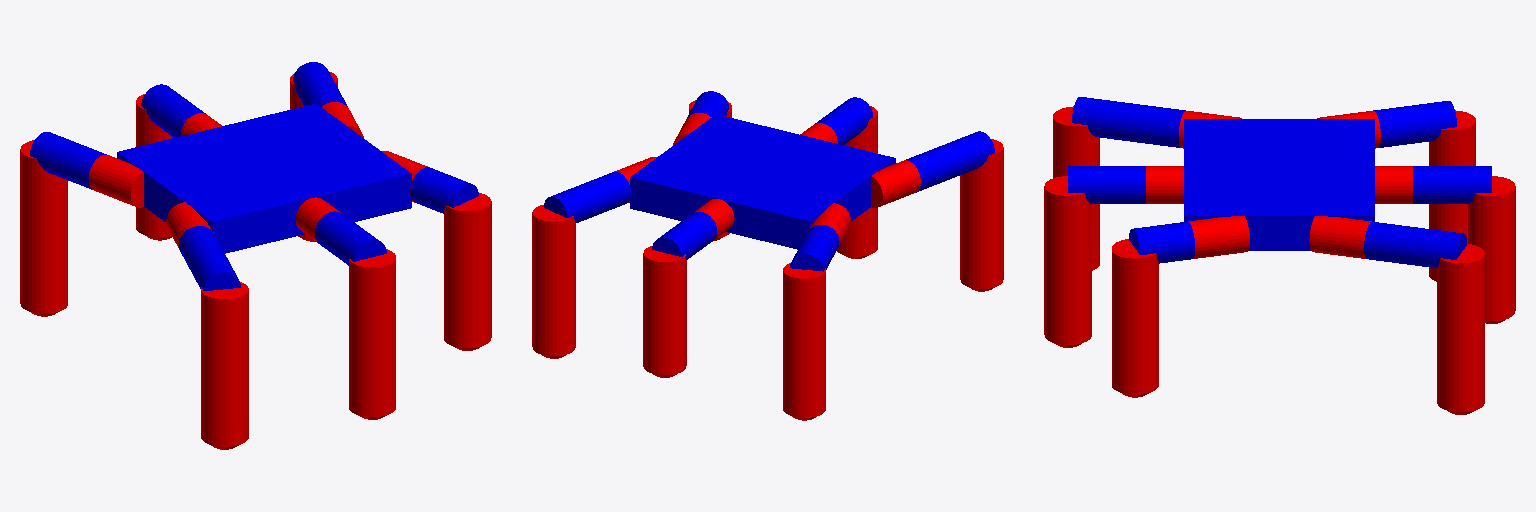
--- What the picture shows (computed from the rendered views, not written in the file) ---
The picture shows the robot from 3 angles, left to right: view 1: azimuth 30°, elevation 25°; view 2: azimuth 150°, elevation 25°; view 3: azimuth 270°, elevation 25°; orthographic projection.
Model pexod with 19 links and 18 joints (18 revolute), rooted at base_link, posed all joints at 0.
Visible links, largest first — view 1: base_link, leg_5_3, leg_4_3, leg_0_3, leg_3_3, leg_5_2, leg_0_2, leg_4_2, leg_0_1, leg_3_2, leg_1_2, leg_1_3 (+5 smaller); view 2: base_link, leg_0_3, leg_2_3, leg_5_3, leg_1_3, leg_5_2, leg_2_2, leg_4_3, leg_1_2, leg_5_1, leg_0_2, leg_4_2 (+3 smaller); view 3: base_link, leg_2_3, leg_4_3, leg_3_3, leg_1_3, leg_5_2, leg_2_2, leg_0_3, leg_5_3, leg_1_2, leg_4_2, leg_0_2 (+5 smaller).
Boxes of the visible links, left/top/right/bottom form: base_link: left=117, top=104, right=411, bottom=253; leg_5_3: left=201, top=282, right=248, bottom=449; leg_4_3: left=349, top=249, right=395, bottom=419; leg_0_3: left=20, top=140, right=67, bottom=316; leg_3_3: left=444, top=193, right=491, bottom=350; leg_5_2: left=179, top=226, right=240, bottom=290; leg_0_2: left=30, top=132, right=106, bottom=189; leg_4_2: left=315, top=211, right=386, bottom=265; leg_0_1: left=89, top=155, right=143, bottom=207; leg_3_2: left=410, top=167, right=478, bottom=213; leg_1_2: left=141, top=84, right=205, bottom=137; leg_1_3: left=136, top=94, right=173, bottom=240; base_link: left=630, top=114, right=895, bottom=249; leg_0_3: left=783, top=263, right=825, bottom=420; leg_2_3: left=532, top=205, right=575, bottom=358; leg_5_3: left=960, top=139, right=1003, bottom=291; leg_1_3: left=643, top=246, right=686, bottom=377; leg_5_2: left=906, top=131, right=994, bottom=192; leg_2_2: left=544, top=172, right=630, bottom=222; leg_4_3: left=837, top=106, right=877, bottom=258; leg_1_2: left=652, top=211, right=716, bottom=259; leg_5_1: left=871, top=160, right=920, bottom=207; leg_0_2: left=790, top=225, right=839, bottom=271; leg_4_2: left=815, top=97, right=872, bottom=144; base_link: left=1184, top=119, right=1374, bottom=250; leg_2_3: left=1437, top=244, right=1484, bottom=414; leg_4_3: left=1044, top=176, right=1091, bottom=347; leg_3_3: left=1112, top=239, right=1158, bottom=397; leg_1_3: left=1468, top=176, right=1515, bottom=323; leg_5_2: left=1072, top=97, right=1185, bottom=147; leg_2_2: left=1364, top=222, right=1466, bottom=267; leg_0_3: left=1429, top=110, right=1475, bottom=281; leg_5_3: left=1053, top=106, right=1099, bottom=270; leg_1_2: left=1413, top=166, right=1491, bottom=203; leg_4_2: left=1068, top=166, right=1145, bottom=203; leg_0_2: left=1373, top=101, right=1456, bottom=147.
Bounding box of the posed robot: 0.3897 × 0.494 × 0.2105 m (x, y, z).
Geometry: primitives only (box / cylinder / sphere), no mesh files.

URDF robot description (pexod):
<?xml version="1.0" ?>
<!-- =================================================================================== -->
<!-- |    This document was autogenerated by xacro from pexod.xacro                    | -->
<!-- |    EDITING THIS FILE BY HAND IS NOT RECOMMENDED                                 | -->
<!-- =================================================================================== -->
<robot name="pexod" xmlns:xacro="http://www.ros.org/wiki/xacro">
  <!-- <xacro:include filename="$(find pexod_description)/urdf/pexod_control.xacro" /> -->
  <!-- MATERIALS -->
  <material name="Blue">
    <color rgba="0 0 1 1"/>
  </material>
  <material name="Red">
    <color rgba="1 0 0 1"/>
  </material>
  <material name="Green">
    <color rgba="0 1 0 1"/>
  </material>
  <material name="Yellow">
    <color rgba="1 1 0 1"/>
  </material>
  <material name="LightGrey">
    <color rgba="0.6 0.6 0.6 1.0"/>
  </material>
  <!-- END OF MATERIALS -->
  <!-- XACRO MACROS FOR VISUALS AND COLLISIONS -->
  <!-- END OF XACRO MACROS -->
  <!-- TORSO -->
  <link name="base_link">
    <visual>
      <origin rpy="0 0 0" xyz="0 0 0"/>
      <geometry>
        <box size="0.24 0.2 0.04"/>
      </geometry>
      <material name="Blue"/>
    </visual>
    <collision>
      <origin rpy="0 0 0" xyz="0 0 0"/>
      <geometry>
        <box size="0.24 0.2 0.04"/>
      </geometry>
    </collision>
    <inertial>
      <!-- CENTER OF MASS -->
      <origin rpy="0 0 0" xyz="0 0 0"/>
      <mass value="1.031"/>
      <!-- box inertia: 1/12*m(y^2+z^2), ... -->
      <inertia ixx="0.00357413333333" ixy="0" ixz="0" iyy="0.00508626666667" iyz="0" izz="0.00838546666667"/>
    </inertial>
  </link>
  <!-- XACRO MACRO FOR LEGS LINKS/JOINTS -->
  <!-- END OF LEG LINKS/JOINTS -->
  <joint name="body_leg_2" type="revolute">
    <parent link="base_link"/>
    <child link="leg_2_1"/>
    <limit effort="30.0" lower="-1.57079632679" upper="1.57079632679" velocity="7.0"/>
    <origin rpy="0 0 -0.3" xyz="0.11 0.04 0"/>
    <!-- <xacro:if value="${index == 5 or index == 4 or index == 3}">
                <axis xyz="0 0 1"/>
            </xacro:if>
            <xacro:if value="${index == 2 or index == 1 or index == 0}"> -->
    <axis xyz="0 0 1"/>
    <!-- </xacro:if> -->
    <dynamics damping="0.0"/>
  </joint>
  <link name="leg_2_1">
    <visual>
      <origin rpy="1.57079632679 0 0" xyz="0.01 0.03 0"/>
      <geometry>
        <cylinder length="0.06" radius="0.02"/>
      </geometry>
      <material name="Red"/>
    </visual>
    <collision>
      <origin rpy="1.57079632679 0 0" xyz="0.01 0.03 0"/>
      <geometry>
        <box size="0.02 0.02 0.06"/>
      </geometry>
    </collision>
    <inertial>
      <!-- CENTER OF MASS -->
      <origin rpy="1.57079632679 0 0" xyz="0.01 0.03 0"/>
      <mass value="0.02"/>
      <!-- box inertia: 1/12*m(y^2+z^2), ... -->
      <inertia ixx="6.66666666667e-06" ixy="0" ixz="0" iyy="6.66666666667e-06" iyz="0" izz="1.33333333333e-06"/>
    </inertial>
  </link>
  <joint name="leg_2_1_2" type="revolute">
    <parent link="leg_2_1"/>
    <child link="leg_2_2"/>
    <limit effort="30.0" lower="-0.78539816339" upper="0.78539816339" velocity="7.0"/>
    <origin rpy="0 0 0" xyz="0 0.06 0"/>
    <axis xyz="1 0 0"/>
    <dynamics damping="0.0"/>
  </joint>
  <link name="leg_2_2">
    <visual>
      <origin rpy="1.57079632679 0 0" xyz="0.01 0.0504983761665 0"/>
      <geometry>
        <cylinder length="0.100996752333" radius="0.02"/>
      </geometry>
      <material name="Blue"/>
    </visual>
    <collision>
      <origin rpy="1.57079632679 0 0" xyz="0.01 0.0504983761665 0"/>
      <geometry>
        <box size="0.02 0.02 0.100996752333"/>
      </geometry>
    </collision>
    <inertial>
      <!-- CENTER OF MASS -->
      <origin rpy="1.57079632679 0 0" xyz="0.01 0.0504983761665 0"/>
      <mass value="0.184"/>
      <!-- box inertia: 1/12*m(y^2+z^2), ... -->
      <inertia ixx="0.000162538607721" ixy="0" ixz="0" iyy="0.000162538607721" iyz="0" izz="1.22666666667e-05"/>
    </inertial>
  </link>
  <joint name="leg_2_2_3" type="revolute">
    <parent link="leg_2_2"/>
    <child link="leg_2_3"/>
    <limit effort="30.0" lower="-0.78539816339" upper="0.78539816339" velocity="7.0"/>
    <origin rpy="-1.57079632679 0 0" xyz="0 0.100996752333 0"/>
    <axis xyz="-1 0 0"/>
    <dynamics damping="0.0"/>
  </joint>
  <link name="leg_2_3">
    <visual>
      <origin rpy="1.57079632679 0 0" xyz="0.0125 0.0862149465005 0"/>
      <geometry>
        <cylinder length="0.172429893001" radius="0.025"/>
      </geometry>
      <material name="Red"/>
    </visual>
    <visual>
      <origin rpy="1.57079632679 0 0" xyz="0.0125 0.159929893001 0"/>
      <geometry>
        <sphere radius="0.025"/>
      </geometry>
      <material name="Red"/>
    </visual>
    <collision>
      <origin rpy="1.57079632679 0 0" xyz="0.0125 0.0862149465005 0"/>
      <geometry>
        <box size="0.025 0.025 0.172429893001"/>
      </geometry>
    </collision>
    <collision>
      <origin rpy="1.57079632679 0 0" xyz="0.0125 0.159929893001 0"/>
      <geometry>
        <sphere radius="0.025"/>
      </geometry>
      <material name="Red"/>
    </collision>
    <inertial>
      <!-- CENTER OF MASS -->
      <origin rpy="1.57079632679 0 0" xyz="0.0125 0.0862149465005 0"/>
      <mass value="0.04"/>
      <!-- box inertia: 1/12*m(y^2+z^2), ... -->
      <inertia ixx="0.000101190226668" ixy="0" ixz="0" iyy="0.000101190226668" iyz="0" izz="4.16666666667e-06"/>
    </inertial>
  </link>
  <joint name="body_leg_3" type="revolute">
    <parent link="base_link"/>
    <child link="leg_3_1"/>
    <limit effort="30.0" lower="-1.57079632679" upper="1.57079632679" velocity="7.0"/>
    <origin rpy="0 0 0.3" xyz="0.11 -0.04 0"/>
    <!-- <xacro:if value="${index == 5 or index == 4 or index == 3}">
                <axis xyz="0 0 1"/>
            </xacro:if>
            <xacro:if value="${index == 2 or index == 1 or index == 0}"> -->
    <axis xyz="0 0 1"/>
    <!-- </xacro:if> -->
    <dynamics damping="0.0"/>
  </joint>
  <link name="leg_3_1">
    <visual>
      <origin rpy="1.57079632679 0 0" xyz="0.01 -0.03 0"/>
      <geometry>
        <cylinder length="0.06" radius="0.02"/>
      </geometry>
      <material name="Red"/>
    </visual>
    <collision>
      <origin rpy="1.57079632679 0 0" xyz="0.01 -0.03 0"/>
      <geometry>
        <box size="0.02 0.02 0.06"/>
      </geometry>
    </collision>
    <inertial>
      <!-- CENTER OF MASS -->
      <origin rpy="1.57079632679 0 0" xyz="0.01 -0.03 0"/>
      <mass value="0.02"/>
      <!-- box inertia: 1/12*m(y^2+z^2), ... -->
      <inertia ixx="6.66666666667e-06" ixy="0" ixz="0" iyy="6.66666666667e-06" iyz="0" izz="1.33333333333e-06"/>
    </inertial>
  </link>
  <joint name="leg_3_1_2" type="revolute">
    <parent link="leg_3_1"/>
    <child link="leg_3_2"/>
    <limit effort="30.0" lower="-0.78539816339" upper="0.78539816339" velocity="7.0"/>
    <origin rpy="0 0 0" xyz="0 -0.06 0"/>
    <axis xyz="-1 0 0"/>
    <dynamics damping="0.0"/>
  </joint>
  <link name="leg_3_2">
    <visual>
      <origin rpy="1.57079632679 0 0" xyz="0.01 -0.0302935034329 0"/>
      <geometry>
        <cylinder length="0.0605870068658" radius="0.02"/>
      </geometry>
      <material name="Blue"/>
    </visual>
    <collision>
      <origin rpy="1.57079632679 0 0" xyz="0.01 -0.0302935034329 0"/>
      <geometry>
        <box size="0.02 0.02 0.0605870068658"/>
      </geometry>
    </collision>
    <inertial>
      <!-- CENTER OF MASS -->
      <origin rpy="1.57079632679 0 0" xyz="0.01 -0.0302935034329 0"/>
      <mass value="0.184"/>
      <!-- box inertia: 1/12*m(y^2+z^2), ... -->
      <inertia ixx="6.24187094813e-05" ixy="0" ixz="0" iyy="6.24187094813e-05" iyz="0" izz="1.22666666667e-05"/>
    </inertial>
  </link>
  <joint name="leg_3_2_3" type="revolute">
    <parent link="leg_3_2"/>
    <child link="leg_3_3"/>
    <limit effort="30.0" lower="-0.78539816339" upper="0.78539816339" velocity="7.0"/>
    <origin rpy="1.57079632679 0 0" xyz="0 -0.0605870068658 0"/>
    <axis xyz="1 0 0"/>
    <dynamics damping="0.0"/>
  </joint>
  <link name="leg_3_3">
    <visual>
      <origin rpy="1.57079632679 0 0" xyz="0.0125 -0.078759238563 0"/>
      <geometry>
        <cylinder length="0.157518477126" radius="0.025"/>
      </geometry>
      <material name="Red"/>
    </visual>
    <visual>
      <origin rpy="1.57079632679 0 0" xyz="0.0125 -0.145018477126 0"/>
      <geometry>
        <sphere radius="0.025"/>
      </geometry>
      <material name="Red"/>
    </visual>
    <collision>
      <origin rpy="1.57079632679 0 0" xyz="0.0125 -0.078759238563 0"/>
      <geometry>
        <box size="0.025 0.025 0.157518477126"/>
      </geometry>
    </collision>
    <collision>
      <origin rpy="1.57079632679 0 0" xyz="0.0125 -0.145018477126 0"/>
      <geometry>
        <sphere radius="0.025"/>
      </geometry>
      <material name="Red"/>
    </collision>
    <inertial>
      <!-- CENTER OF MASS -->
      <origin rpy="1.57079632679 0 0" xyz="0.0125 -0.078759238563 0"/>
      <mass value="0.04"/>
      <!-- box inertia: 1/12*m(y^2+z^2), ... -->
      <inertia ixx="8.47902354536e-05" ixy="0" ixz="0" iyy="8.47902354536e-05" iyz="0" izz="4.16666666667e-06"/>
    </inertial>
  </link>
  <joint name="body_leg_0" type="revolute">
    <parent link="base_link"/>
    <child link="leg_0_1"/>
    <limit effort="30.0" lower="-1.57079632679" upper="1.57079632679" velocity="7.0"/>
    <origin rpy="0 0 0.3" xyz="-0.13 0.04 0"/>
    <!-- <xacro:if value="${index == 5 or index == 4 or index == 3}">
                <axis xyz="0 0 1"/>
            </xacro:if>
            <xacro:if value="${index == 2 or index == 1 or index == 0}"> -->
    <axis xyz="0 0 1"/>
    <!-- </xacro:if> -->
    <dynamics damping="0.0"/>
  </joint>
  <link name="leg_0_1">
    <visual>
      <origin rpy="1.57079632679 0 0" xyz="0.01 0.03 0"/>
      <geometry>
        <cylinder length="0.06" radius="0.02"/>
      </geometry>
      <material name="Red"/>
    </visual>
    <collision>
      <origin rpy="1.57079632679 0 0" xyz="0.01 0.03 0"/>
      <geometry>
        <box size="0.02 0.02 0.06"/>
      </geometry>
    </collision>
    <inertial>
      <!-- CENTER OF MASS -->
      <origin rpy="1.57079632679 0 0" xyz="0.01 0.03 0"/>
      <mass value="0.02"/>
      <!-- box inertia: 1/12*m(y^2+z^2), ... -->
      <inertia ixx="6.66666666667e-06" ixy="0" ixz="0" iyy="6.66666666667e-06" iyz="0" izz="1.33333333333e-06"/>
    </inertial>
  </link>
  <joint name="leg_0_1_2" type="revolute">
    <parent link="leg_0_1"/>
    <child link="leg_0_2"/>
    <limit effort="30.0" lower="-0.78539816339" upper="0.78539816339" velocity="7.0"/>
    <origin rpy="0 0 0" xyz="0 0.06 0"/>
    <axis xyz="1 0 0"/>
    <dynamics damping="0.0"/>
  </joint>
  <link name="leg_0_2">
    <visual>
      <origin rpy="1.57079632679 0 0" xyz="0.01 0.0418184756742 0"/>
      <geometry>
        <cylinder length="0.0836369513484" radius="0.02"/>
      </geometry>
      <material name="Blue"/>
    </visual>
    <collision>
      <origin rpy="1.57079632679 0 0" xyz="0.01 0.0418184756742 0"/>
      <geometry>
        <box size="0.02 0.02 0.0836369513484"/>
      </geometry>
    </collision>
    <inertial>
      <!-- CENTER OF MASS -->
      <origin rpy="1.57079632679 0 0" xyz="0.01 0.0418184756742 0"/>
      <mass value="0.184"/>
      <!-- box inertia: 1/12*m(y^2+z^2), ... -->
      <inertia ixx="0.000113392141006" ixy="0" ixz="0" iyy="0.000113392141006" iyz="0" izz="1.22666666667e-05"/>
    </inertial>
  </link>
  <joint name="leg_0_2_3" type="revolute">
    <parent link="leg_0_2"/>
    <child link="leg_0_3"/>
    <limit effort="30.0" lower="-0.78539816339" upper="0.78539816339" velocity="7.0"/>
    <origin rpy="-1.57079632679 0 0" xyz="0 0.0836369513484 0"/>
    <axis xyz="-1 0 0"/>
    <dynamics damping="0.0"/>
  </joint>
  <link name="leg_0_3">
    <visual>
      <origin rpy="1.57079632679 0 0" xyz="0.0125 0.089019122952 0"/>
      <geometry>
        <cylinder length="0.178038245904" radius="0.025"/>
      </geometry>
      <material name="Red"/>
    </visual>
    <visual>
      <origin rpy="1.57079632679 0 0" xyz="0.0125 0.165538245904 0"/>
      <geometry>
        <sphere radius="0.025"/>
      </geometry>
      <material name="Red"/>
    </visual>
    <collision>
      <origin rpy="1.57079632679 0 0" xyz="0.0125 0.089019122952 0"/>
      <geometry>
        <box size="0.025 0.025 0.178038245904"/>
      </geometry>
    </collision>
    <collision>
      <origin rpy="1.57079632679 0 0" xyz="0.0125 0.165538245904 0"/>
      <geometry>
        <sphere radius="0.025"/>
      </geometry>
      <material name="Red"/>
    </collision>
    <inertial>
      <!-- CENTER OF MASS -->
      <origin rpy="1.57079632679 0 0" xyz="0.0125 0.089019122952 0"/>
      <mass value="0.04"/>
      <!-- box inertia: 1/12*m(y^2+z^2), ... -->
      <inertia ixx="0.000107742056682" ixy="0" ixz="0" iyy="0.000107742056682" iyz="0" izz="4.16666666667e-06"/>
    </inertial>
  </link>
  <joint name="body_leg_5" type="revolute">
    <parent link="base_link"/>
    <child link="leg_5_1"/>
    <limit effort="30.0" lower="-1.57079632679" upper="1.57079632679" velocity="7.0"/>
    <origin rpy="0 0 -0.3" xyz="-0.13 -0.04 0"/>
    <!-- <xacro:if value="${index == 5 or index == 4 or index == 3}">
                <axis xyz="0 0 1"/>
            </xacro:if>
            <xacro:if value="${index == 2 or index == 1 or index == 0}"> -->
    <axis xyz="0 0 1"/>
    <!-- </xacro:if> -->
    <dynamics damping="0.0"/>
  </joint>
  <link name="leg_5_1">
    <visual>
      <origin rpy="1.57079632679 0 0" xyz="0.01 -0.03 0"/>
      <geometry>
        <cylinder length="0.06" radius="0.02"/>
      </geometry>
      <material name="Red"/>
    </visual>
    <collision>
      <origin rpy="1.57079632679 0 0" xyz="0.01 -0.03 0"/>
      <geometry>
        <box size="0.02 0.02 0.06"/>
      </geometry>
    </collision>
    <inertial>
      <!-- CENTER OF MASS -->
      <origin rpy="1.57079632679 0 0" xyz="0.01 -0.03 0"/>
      <mass value="0.02"/>
      <!-- box inertia: 1/12*m(y^2+z^2), ... -->
      <inertia ixx="6.66666666667e-06" ixy="0" ixz="0" iyy="6.66666666667e-06" iyz="0" izz="1.33333333333e-06"/>
    </inertial>
  </link>
  <joint name="leg_5_1_2" type="revolute">
    <parent link="leg_5_1"/>
    <child link="leg_5_2"/>
    <limit effort="30.0" lower="-0.78539816339" upper="0.78539816339" velocity="7.0"/>
    <origin rpy="0 0 0" xyz="0 -0.06 0"/>
    <axis xyz="-1 0 0"/>
    <dynamics damping="0.0"/>
  </joint>
  <link name="leg_5_2">
    <visual>
      <origin rpy="1.57079632679 0 0" xyz="0.01 -0.05859166816 0"/>
      <geometry>
        <cylinder length="0.11718333632" radius="0.02"/>
      </geometry>
      <material name="Blue"/>
    </visual>
    <collision>
      <origin rpy="1.57079632679 0 0" xyz="0.01 -0.05859166816 0"/>
      <geometry>
        <box size="0.02 0.02 0.11718333632"/>
      </geometry>
    </collision>
    <inertial>
      <!-- CENTER OF MASS -->
      <origin rpy="1.57079632679 0 0" xyz="0.01 -0.05859166816 0"/>
      <mass value="0.184"/>
      <!-- box inertia: 1/12*m(y^2+z^2), ... -->
      <inertia ixx="0.000216689659437" ixy="0" ixz="0" iyy="0.000216689659437" iyz="0" izz="1.22666666667e-05"/>
    </inertial>
  </link>
  <joint name="leg_5_2_3" type="revolute">
    <parent link="leg_5_2"/>
    <child link="leg_5_3"/>
    <limit effort="30.0" lower="-0.78539816339" upper="0.78539816339" velocity="7.0"/>
    <origin rpy="1.57079632679 0 0" xyz="0 -0.11718333632 0"/>
    <axis xyz="1 0 0"/>
    <dynamics damping="0.0"/>
  </joint>
  <link name="leg_5_3">
    <visual>
      <origin rpy="1.57079632679 0 0" xyz="0.0125 -0.0849969988935 0"/>
      <geometry>
        <cylinder length="0.169993997787" radius="0.025"/>
      </geometry>
      <material name="Red"/>
    </visual>
    <visual>
      <origin rpy="1.57079632679 0 0" xyz="0.0125 -0.157493997787 0"/>
      <geometry>
        <sphere radius="0.025"/>
      </geometry>
      <material name="Red"/>
    </visual>
    <collision>
      <origin rpy="1.57079632679 0 0" xyz="0.0125 -0.0849969988935 0"/>
      <geometry>
        <box size="0.025 0.025 0.169993997787"/>
      </geometry>
    </collision>
    <collision>
      <origin rpy="1.57079632679 0 0" xyz="0.0125 -0.157493997787 0"/>
      <geometry>
        <sphere radius="0.025"/>
      </geometry>
      <material name="Red"/>
    </collision>
    <inertial>
      <!-- CENTER OF MASS -->
      <origin rpy="1.57079632679 0 0" xyz="0.0125 -0.0849969988935 0"/>
      <mass value="0.04"/>
      <!-- box inertia: 1/12*m(y^2+z^2), ... -->
      <inertia ixx="9.84098642787e-05" ixy="0" ixz="0" iyy="9.84098642787e-05" iyz="0" izz="4.16666666667e-06"/>
    </inertial>
  </link>
  <joint name="body_leg_1" type="revolute">
    <parent link="base_link"/>
    <child link="leg_1_1"/>
    <limit effort="30.0" lower="-1.57079632679" upper="1.57079632679" velocity="7.0"/>
    <origin rpy="0 0 0" xyz="-0.01 0.08 0"/>
    <!-- <xacro:if value="${index == 5 or index == 4 or index == 3}">
                <axis xyz="0 0 1"/>
            </xacro:if>
            <xacro:if value="${index == 2 or index == 1 or index == 0}"> -->
    <axis xyz="0 0 1"/>
    <!-- </xacro:if> -->
    <dynamics damping="0.0"/>
  </joint>
  <link name="leg_1_1">
    <visual>
      <origin rpy="1.57079632679 0 0" xyz="0.01 0.03 0"/>
      <geometry>
        <cylinder length="0.06" radius="0.02"/>
      </geometry>
      <material name="Red"/>
    </visual>
    <collision>
      <origin rpy="1.57079632679 0 0" xyz="0.01 0.03 0"/>
      <geometry>
        <box size="0.02 0.02 0.06"/>
      </geometry>
    </collision>
    <inertial>
      <!-- CENTER OF MASS -->
      <origin rpy="1.57079632679 0 0" xyz="0.01 0.03 0"/>
      <mass value="0.02"/>
      <!-- box inertia: 1/12*m(y^2+z^2), ... -->
      <inertia ixx="6.66666666667e-06" ixy="0" ixz="0" iyy="6.66666666667e-06" iyz="0" izz="1.33333333333e-06"/>
    </inertial>
  </link>
  <joint name="leg_1_1_2" type="revolute">
    <parent link="leg_1_1"/>
    <child link="leg_1_2"/>
    <limit effort="30.0" lower="-0.78539816339" upper="0.78539816339" velocity="7.0"/>
    <origin rpy="0 0 0" xyz="0 0.06 0"/>
    <axis xyz="1 0 0"/>
    <dynamics damping="0.0"/>
  </joint>
  <link name="leg_1_2">
    <visual>
      <origin rpy="1.57079632679 0 0" xyz="0.01 0.0411216407111 0"/>
      <geometry>
        <cylinder length="0.0822432814222" radius="0.02"/>
      </geometry>
      <material name="Blue"/>
    </visual>
    <collision>
      <origin rpy="1.57079632679 0 0" xyz="0.01 0.0411216407111 0"/>
      <geometry>
        <box size="0.02 0.02 0.0822432814222"/>
      </geometry>
    </collision>
    <inertial>
      <!-- CENTER OF MASS -->
      <origin rpy="1.57079632679 0 0" xyz="0.01 0.0411216407111 0"/>
      <mass value="0.184"/>
      <!-- box inertia: 1/12*m(y^2+z^2), ... -->
      <inertia ixx="0.000109847345866" ixy="0" ixz="0" iyy="0.000109847345866" iyz="0" izz="1.22666666667e-05"/>
    </inertial>
  </link>
  <joint name="leg_1_2_3" type="revolute">
    <parent link="leg_1_2"/>
    <child link="leg_1_3"/>
    <limit effort="30.0" lower="-0.78539816339" upper="0.78539816339" velocity="7.0"/>
    <origin rpy="-1.57079632679 0 0" xyz="0 0.0822432814222 0"/>
    <axis xyz="-1 0 0"/>
    <dynamics damping="0.0"/>
  </joint>
  <link name="leg_1_3">
    <visual>
      <origin rpy="1.57079632679 0 0" xyz="0.0125 0.072469423634 0"/>
      <geometry>
        <cylinder length="0.144938847268" radius="0.025"/>
      </geometry>
      <material name="Red"/>
    </visual>
    <visual>
      <origin rpy="1.57079632679 0 0" xyz="0.0125 0.132438847268 0"/>
      <geometry>
        <sphere radius="0.025"/>
      </geometry>
      <material name="Red"/>
    </visual>
    <collision>
      <origin rpy="1.57079632679 0 0" xyz="0.0125 0.072469423634 0"/>
      <geometry>
        <box size="0.025 0.025 0.144938847268"/>
      </geometry>
    </collision>
    <collision>
      <origin rpy="1.57079632679 0 0" xyz="0.0125 0.132438847268 0"/>
      <geometry>
        <sphere radius="0.025"/>
      </geometry>
      <material name="Red"/>
    </collision>
    <inertial>
      <!-- CENTER OF MASS -->
      <origin rpy="1.57079632679 0 0" xyz="0.0125 0.072469423634 0"/>
      <mass value="0.04"/>
      <!-- box inertia: 1/12*m(y^2+z^2), ... -->
      <inertia ixx="7.21075648246e-05" ixy="0" ixz="0" iyy="7.21075648246e-05" iyz="0" izz="4.16666666667e-06"/>
    </inertial>
  </link>
  <joint name="body_leg_4" type="revolute">
    <parent link="base_link"/>
    <child link="leg_4_1"/>
    <limit effort="30.0" lower="-1.57079632679" upper="1.57079632679" velocity="7.0"/>
    <origin rpy="0 0 0" xyz="-0.01 -0.08 0"/>
    <!-- <xacro:if value="${index == 5 or index == 4 or index == 3}">
                <axis xyz="0 0 1"/>
            </xacro:if>
            <xacro:if value="${index == 2 or index == 1 or index == 0}"> -->
    <axis xyz="0 0 1"/>
    <!-- </xacro:if> -->
    <dynamics damping="0.0"/>
  </joint>
  <link name="leg_4_1">
    <visual>
      <origin rpy="1.57079632679 0 0" xyz="0.01 -0.03 0"/>
      <geometry>
        <cylinder length="0.06" radius="0.02"/>
      </geometry>
      <material name="Red"/>
    </visual>
    <collision>
      <origin rpy="1.57079632679 0 0" xyz="0.01 -0.03 0"/>
      <geometry>
        <box size="0.02 0.02 0.06"/>
      </geometry>
    </collision>
    <inertial>
      <!-- CENTER OF MASS -->
      <origin rpy="1.57079632679 0 0" xyz="0.01 -0.03 0"/>
      <mass value="0.02"/>
      <!-- box inertia: 1/12*m(y^2+z^2), ... -->
      <inertia ixx="6.66666666667e-06" ixy="0" ixz="0" iyy="6.66666666667e-06" iyz="0" izz="1.33333333333e-06"/>
    </inertial>
  </link>
  <joint name="leg_4_1_2" type="revolute">
    <parent link="leg_4_1"/>
    <child link="leg_4_2"/>
    <limit effort="30.0" lower="-0.78539816339" upper="0.78539816339" velocity="7.0"/>
    <origin rpy="0 0 0" xyz="0 -0.06 0"/>
    <axis xyz="-1 0 0"/>
    <dynamics damping="0.0"/>
  </joint>
  <link name="leg_4_2">
    <visual>
      <origin rpy="1.57079632679 0 0" xyz="0.01 -0.0408583836021 0"/>
      <geometry>
        <cylinder length="0.0817167672042" radius="0.02"/>
      </geometry>
      <material name="Blue"/>
    </visual>
    <collision>
      <origin rpy="1.57079632679 0 0" xyz="0.01 -0.0408583836021 0"/>
      <geometry>
        <box size="0.02 0.02 0.0817167672042"/>
      </geometry>
    </collision>
    <inertial>
      <!-- CENTER OF MASS -->
      <origin rpy="1.57079632679 0 0" xyz="0.01 -0.0408583836021 0"/>
      <mass value="0.184"/>
      <!-- box inertia: 1/12*m(y^2+z^2), ... -->
      <inertia ixx="0.000108523660649" ixy="0" ixz="0" iyy="0.000108523660649" iyz="0" izz="1.22666666667e-05"/>
    </inertial>
  </link>
  <joint name="leg_4_2_3" type="revolute">
    <parent link="leg_4_2"/>
    <child link="leg_4_3"/>
    <limit effort="30.0" lower="-0.78539816339" upper="0.78539816339" velocity="7.0"/>
    <origin rpy="1.57079632679 0 0" xyz="0 -0.0817167672042 0"/>
    <axis xyz="1 0 0"/>
    <dynamics damping="0.0"/>
  </joint>
  <link name="leg_4_3">
    <visual>
      <origin rpy="1.57079632679 0 0" xyz="0.0125 -0.0861847575095 0"/>
      <geometry>
        <cylinder length="0.172369515019" radius="0.025"/>
      </geometry>
      <material name="Red"/>
    </visual>
    <visual>
      <origin rpy="1.57079632679 0 0" xyz="0.0125 -0.159869515019 0"/>
      <geometry>
        <sphere radius="0.025"/>
      </geometry>
      <material name="Red"/>
    </visual>
    <collision>
      <origin rpy="1.57079632679 0 0" xyz="0.0125 -0.0861847575095 0"/>
      <geometry>
        <box size="0.025 0.025 0.172369515019"/>
      </geometry>
    </collision>
    <collision>
      <origin rpy="1.57079632679 0 0" xyz="0.0125 -0.159869515019 0"/>
      <geometry>
        <sphere radius="0.025"/>
      </geometry>
      <material name="Red"/>
    </collision>
    <inertial>
      <!-- CENTER OF MASS -->
      <origin rpy="1.57079632679 0 0" xyz="0.0125 -0.0861847575095 0"/>
      <mass value="0.04"/>
      <!-- box inertia: 1/12*m(y^2+z^2), ... -->
      <inertia ixx="0.00010112083236" ixy="0" ixz="0" iyy="0.00010112083236" iyz="0" izz="4.16666666667e-06"/>
    </inertial>
  </link>
  <!-- END OF LEG LINKS/JOINTS -->
</robot>
